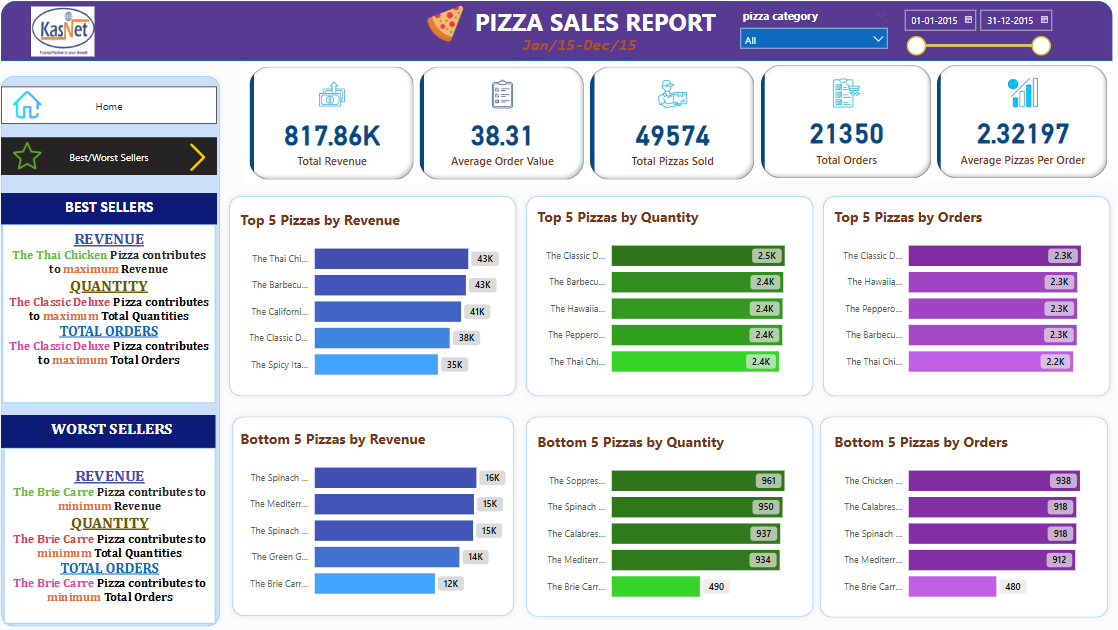

The page's visual inventory and layout, read from the dashboard file:
{"tool":"powerbi","page":{"name":"Best/Worst Sellers","canvas":[1500,850],"ordinal":1},"visuals":[{"type":"cardVisual","fields":{"Data":["pizza_sales.Total Revenue","pizza_sales.Average Order Value","pizza_sales.Total Pizzas Sold"]},"box":[334,89.2,683.3,161.3],"z":0,"group":"g2"},{"type":"shape","box":[0,100,308,750],"z":0,"group":"g5"},{"type":"shape","box":[304,260,399,283],"z":0,"group":"g3"},{"type":"shape","box":[700,260,399,283],"z":0,"group":"g9"},{"type":"shape","box":[1096,260,399,283],"z":0,"group":"g11"},{"type":"shape","box":[308,554,392,282],"z":0},{"type":"shape","box":[700,554,399,283],"z":0,"group":"g4"},{"type":"shape","box":[1092,554,400,284],"z":0,"group":"g7"},{"type":"shape","box":[8,8,1482,80],"z":1000},{"type":"cardVisual","fields":{"Data":["pizza_sales.Total Orders","pizza_sales.Average Pizzas Per Order"]},"box":[1015.1,88,473.9,161.3],"z":1000,"group":"g2"},{"type":"textbox","box":[10,306,284,238],"z":1000,"group":"g5"},{"type":"group","id":"g1","title":"Group 9","box":[304,260,1192,578],"z":2000},{"type":"group","id":"g2","title":"Group 1","box":[334,88,1154,162],"z":3000},{"type":"textbox","box":[617.5,7.5,365,60],"z":4000},{"type":"textbox","box":[685,47.5,185,40],"z":5000},{"type":"group","id":"g3","title":"Group 2","box":[304,260,400,284],"z":5000,"group":"g6"},{"type":"image","box":[549,8,100,60],"z":6000},{"type":"slicer","fields":{"Values":["pizza_sales.pizza_category"]},"box":[984,12,216,76],"z":7000},{"type":"textbox","box":[8,264,288,42],"z":7000,"group":"g5"},{"type":"slicer","fields":{"Values":["pizza_sales.order_date"]},"box":[1200,10,216,76],"z":8000},{"type":"group","id":"g4","title":"Group 2","box":[700,554,400,284],"z":8000,"group":"g12"},{"type":"textbox","box":[8,560,286,44],"z":8000,"group":"g5"},{"type":"group","id":"g5","title":"Group 3","box":[0,100,308,750],"z":9000},{"type":"group","id":"g6","title":"Group 4","box":[304,260,400,284],"z":9000,"group":"g1"},{"type":"group","id":"g7","title":"Group 2","box":[1092,554,400,284],"z":9000,"group":"g13"},{"type":"textbox","box":[12,604,282,234],"z":9000,"group":"g5"},{"type":"barChart","title":"Bottom 5 Pizzas by Revenue","fields":{"Category":["pizza_sales.pizza_name"],"Y":["pizza_sales.Total Revenue"]},"box":[322,578,364,240],"z":10000},{"type":"barChart","title":"Bottom 5 Pizzas by Quantity","fields":{"Category":["pizza_sales.pizza_name"],"Y":["pizza_sales.Total Pizzas Sold"]},"box":[718,582,364,240],"z":10000,"group":"g12"},{"type":"pageNavigator","box":[8,190,288,50],"z":11000},{"type":"group","id":"g8","title":"Group 5","box":[700,260,400,284],"z":11000,"group":"g1"},{"type":"barChart","title":"Bottom 5 Pizzas by Orders","fields":{"Category":["pizza_sales.pizza_name"],"Y":["pizza_sales.Total Orders"]},"box":[1114,582,364,240],"z":11000,"group":"g13"},{"type":"pageNavigator","box":[8,122,288,50],"z":12000},{"type":"group","id":"g9","title":"Group 2","box":[700,260,400,284],"z":12000,"group":"g8"},{"type":"group","id":"g10","title":"Group 6","box":[1096,260,400,284],"z":12000,"group":"g1"},{"type":"image","box":[242,192,56,48],"z":13000},{"type":"group","id":"g11","title":"Group 2","box":[1096,260,400,284],"z":13000,"group":"g10"},{"type":"group","id":"g12","title":"Group 7","box":[700,554,400,284],"z":13000,"group":"g1"},{"type":"image","box":[8,122,70,48],"z":14000},{"type":"group","id":"g13","title":"Group 8","box":[1092,554,400,284],"z":14000,"group":"g1"},{"type":"image","box":[12,190,62,48],"z":15000},{"type":"image","box":[5.7,10,168.6,77.1],"z":15001},{"type":"barChart","title":"Top 5 Pizzas by Revenue","fields":{"Category":["pizza_sales.pizza_name"],"Y":["pizza_sales.Total Revenue"]},"box":[322,286,364,240],"z":17000,"group":"g6"},{"type":"barChart","title":"Top 5 Pizzas by Quantity","fields":{"Category":["pizza_sales.pizza_name"],"Y":["pizza_sales.Total Pizzas Sold"]},"box":[718,282,364,240],"z":19000,"group":"g8"},{"type":"barChart","title":"Top 5 Pizzas by Orders","fields":{"Category":["pizza_sales.pizza_name"],"Y":["pizza_sales.Total Orders"]},"box":[1114,282,364,240],"z":21000,"group":"g10"}]}

Visuals, with their boxes in screenshot pixels (x1, y1, x2, y2), scaled from the page's 1500x850 canvas onto the 1118x630 screenshot:
cardVisual - pizza_sales.Total Revenue x pizza_sales.Average Order Value: x1=249, y1=66, x2=758, y2=186
shape: x1=0, y1=74, x2=230, y2=629
shape: x1=227, y1=193, x2=524, y2=402
shape: x1=522, y1=193, x2=819, y2=402
shape: x1=817, y1=193, x2=1114, y2=402
shape: x1=230, y1=411, x2=522, y2=620
shape: x1=522, y1=411, x2=819, y2=620
shape: x1=814, y1=411, x2=1112, y2=621
shape: x1=6, y1=6, x2=1111, y2=65
cardVisual - pizza_sales.Total Orders x pizza_sales.Average Pizzas Per Order: x1=757, y1=65, x2=1110, y2=185
textbox: x1=7, y1=227, x2=219, y2=403
"Group 9" group: x1=227, y1=193, x2=1115, y2=621
"Group 1" group: x1=249, y1=65, x2=1109, y2=185
textbox: x1=460, y1=6, x2=732, y2=50
textbox: x1=511, y1=35, x2=648, y2=65
"Group 2" group: x1=227, y1=193, x2=525, y2=403
image: x1=409, y1=6, x2=484, y2=50
slicer - pizza_sales.pizza_category: x1=733, y1=9, x2=894, y2=65
textbox: x1=6, y1=196, x2=221, y2=227
slicer - pizza_sales.order_date: x1=894, y1=7, x2=1055, y2=64
"Group 2" group: x1=522, y1=411, x2=820, y2=621
textbox: x1=6, y1=415, x2=219, y2=448
"Group 3" group: x1=0, y1=74, x2=230, y2=629
"Group 4" group: x1=227, y1=193, x2=525, y2=403
"Group 2" group: x1=814, y1=411, x2=1112, y2=621
textbox: x1=9, y1=448, x2=219, y2=621
"Bottom 5 Pizzas by Revenue" barChart: x1=240, y1=428, x2=511, y2=606
"Bottom 5 Pizzas by Quantity" barChart: x1=535, y1=431, x2=806, y2=609
pageNavigator: x1=6, y1=141, x2=221, y2=178
"Group 5" group: x1=522, y1=193, x2=820, y2=403
"Bottom 5 Pizzas by Orders" barChart: x1=830, y1=431, x2=1102, y2=609
pageNavigator: x1=6, y1=90, x2=221, y2=127
"Group 2" group: x1=522, y1=193, x2=820, y2=403
"Group 6" group: x1=817, y1=193, x2=1115, y2=403
image: x1=180, y1=142, x2=222, y2=178
"Group 2" group: x1=817, y1=193, x2=1115, y2=403
"Group 7" group: x1=522, y1=411, x2=820, y2=621
image: x1=6, y1=90, x2=58, y2=126
"Group 8" group: x1=814, y1=411, x2=1112, y2=621
image: x1=9, y1=141, x2=55, y2=176
image: x1=4, y1=7, x2=130, y2=65
"Top 5 Pizzas by Revenue" barChart: x1=240, y1=212, x2=511, y2=390
"Top 5 Pizzas by Quantity" barChart: x1=535, y1=209, x2=806, y2=387
"Top 5 Pizzas by Orders" barChart: x1=830, y1=209, x2=1102, y2=387
